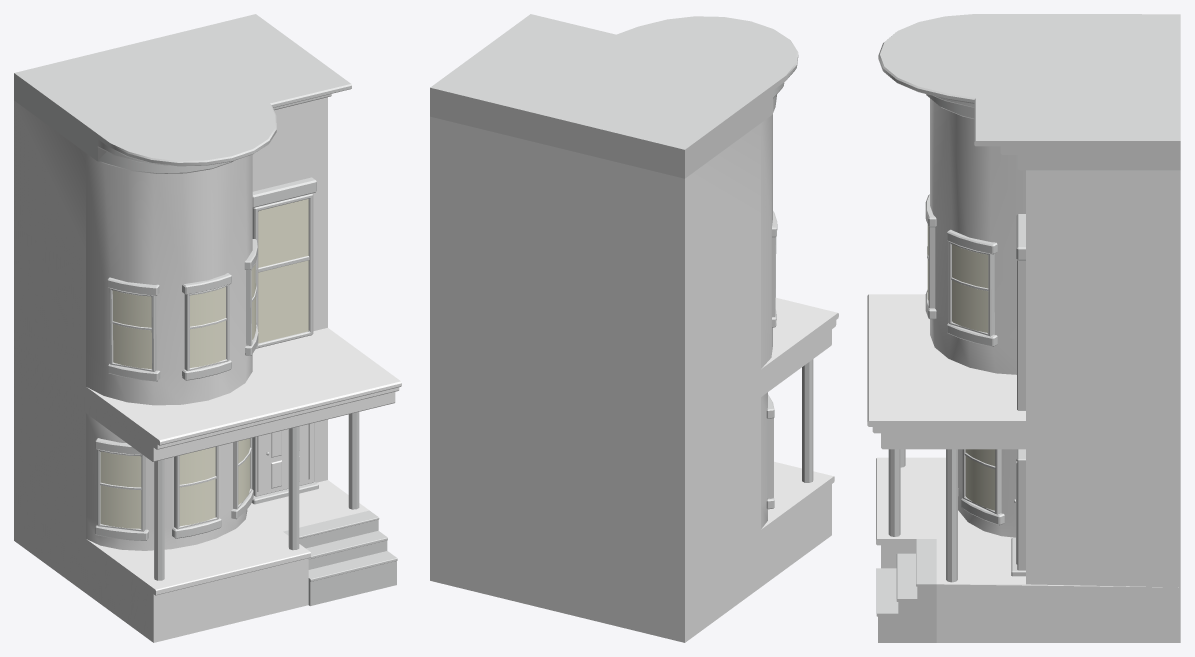
The model's file is DarrenHouse3.fbx.
3 renders of one model, left to right at view 1: azimuth 30°, elevation 25°; view 2: azimuth 150°, elevation 25°; view 3: azimuth 270°, elevation 25°, orthographic. The views are drawn at different scales.
Parts seen in each view (by area): view 1: polySurface38; view 2: polySurface38; view 3: polySurface38.
Boxes of the visible parts, x1,y1,x2,y2 form: polySurface38: [14, 14, 401, 642]; polySurface38: [430, 14, 838, 642]; polySurface38: [867, 14, 1180, 642].
Bounding box in the file's own units: 5.03 × 9.25 × 5.23.
1 material, 1 textured.
